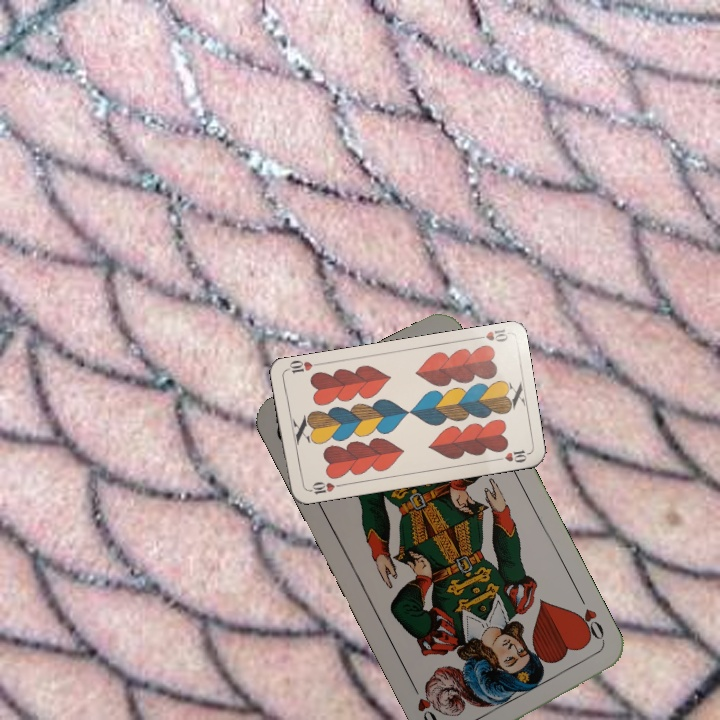H10: (303, 477, 344, 497), (470, 325, 510, 345)
HO: (570, 591, 608, 647)
